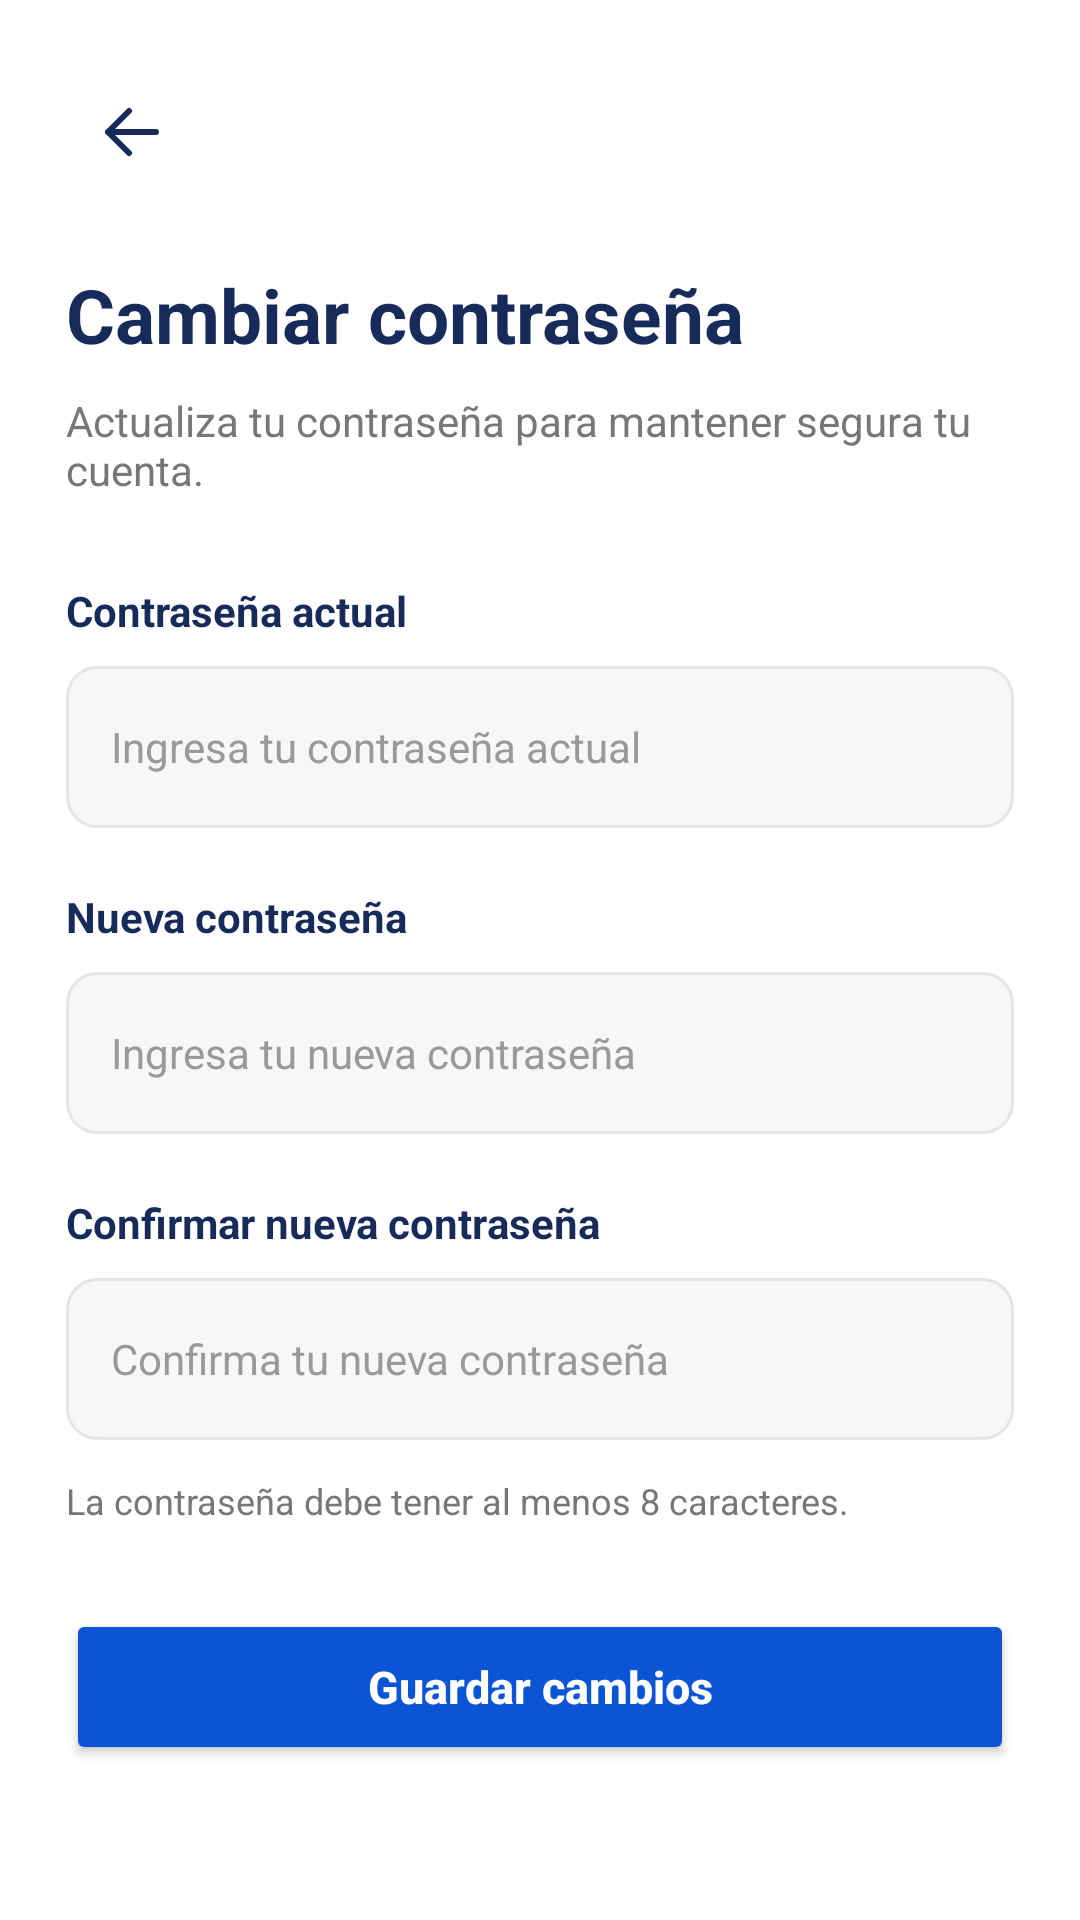

Where to tap for icons on this 1080 x 1920 app screen, as [x,y]:
Volver: [132,132]
